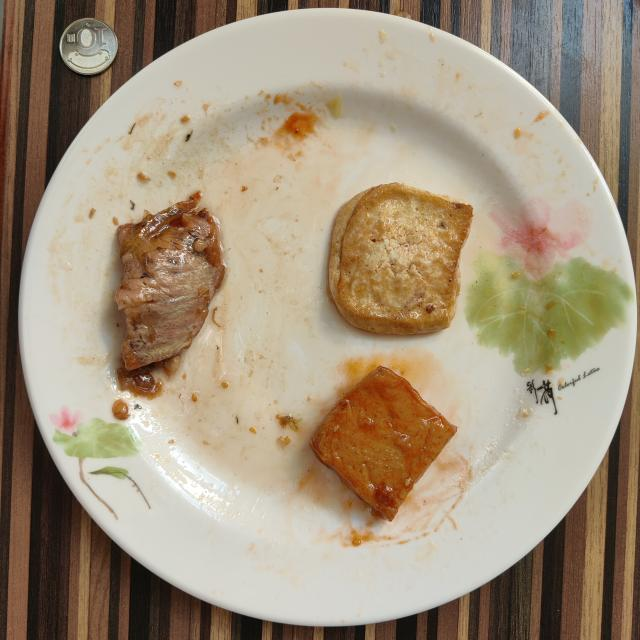Kabayaki sea bream fillet: (115, 191, 225, 371)
coin: (60, 18, 118, 75)
creamy tofu: (310, 366, 456, 521)
